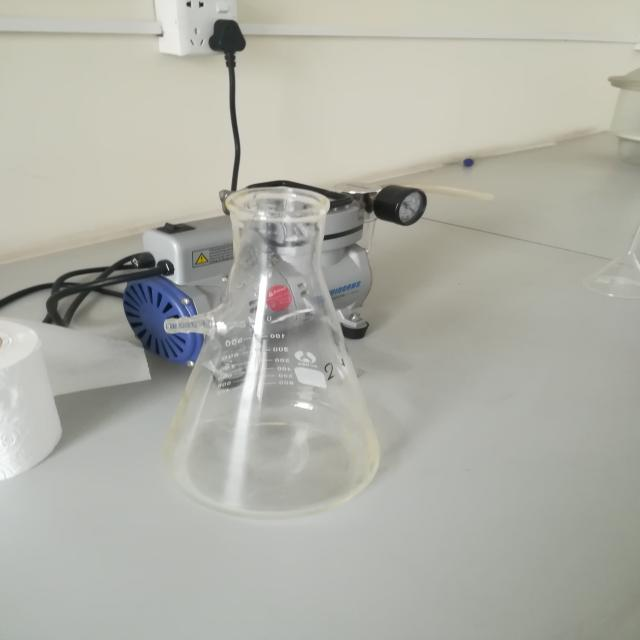Conical_Flask: (128, 150, 438, 537)
